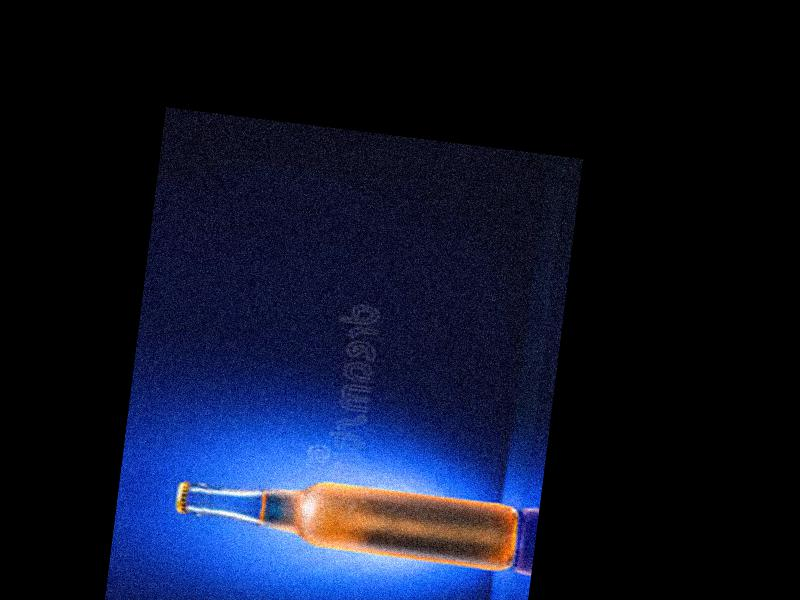Beer: (172, 462, 519, 575)
